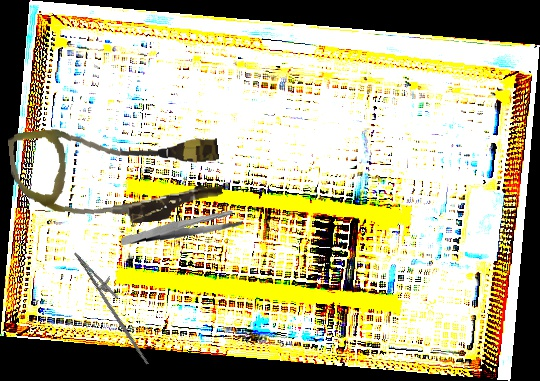Cannula: (7, 112, 225, 236)
Dressing Forceps: (120, 202, 244, 255)
Needle Holder: (61, 245, 169, 366)
